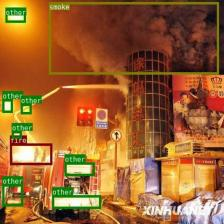fire: (9, 143, 52, 165)
smoke: (49, 1, 218, 74)
